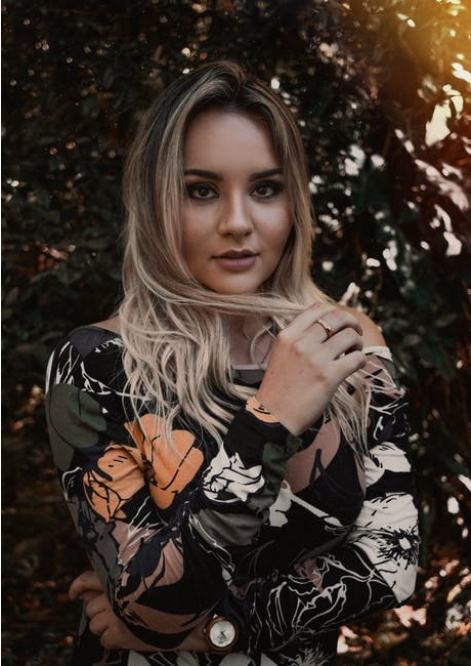face: (177, 112, 288, 291)
